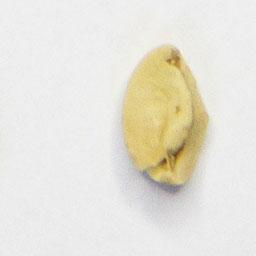defect: (115, 37, 215, 198)
